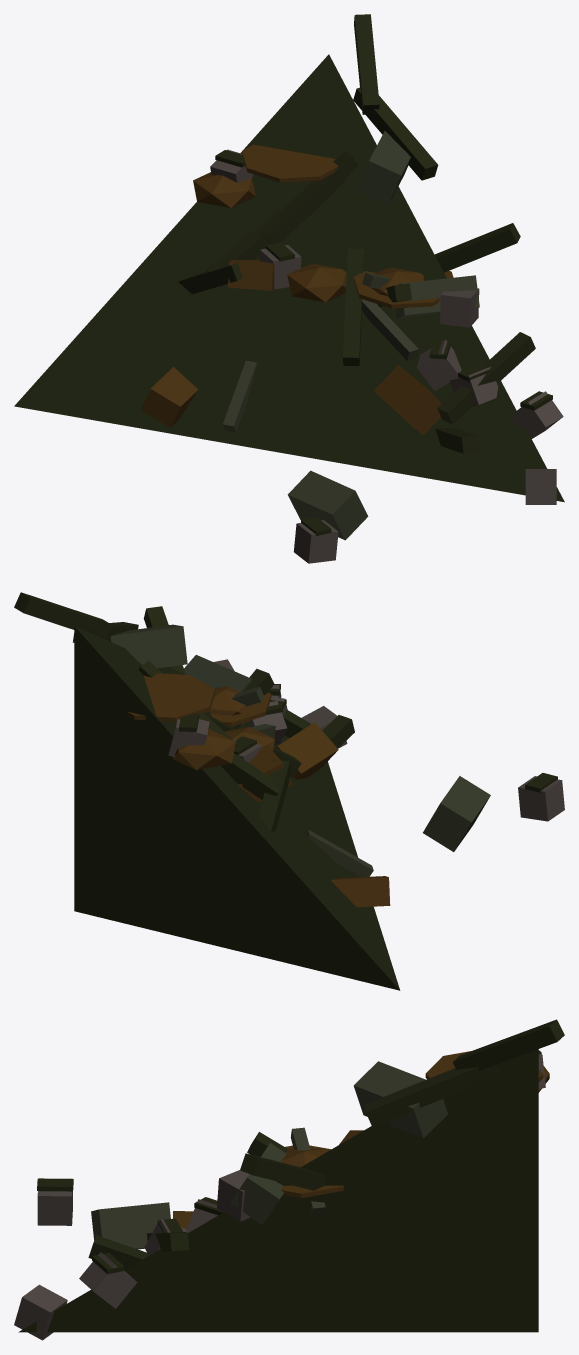
File: SM_PilaZombi_RemateIzq_Altura4_s2_LOD0.fbx
3 renders of one model, top to bottom at view 1: azimuth 30°, elevation 25°; view 2: azimuth 150°, elevation 25°; view 3: azimuth 270°, elevation 25°, orthographic. The views are drawn at different scales.
Visible parts, largest first — view 1: SM_pila_zombis_v13_LOD0; view 2: SM_pila_zombis_v13_LOD0; view 3: SM_pila_zombis_v13_LOD0.
Boxes of the visible parts, x1=… form: SM_pila_zombis_v13_LOD0: x1=14, y1=14, x2=564, y2=563; SM_pila_zombis_v13_LOD0: x1=14, y1=592, x2=564, y2=990; SM_pila_zombis_v13_LOD0: x1=14, y1=1019, x2=564, y2=1340.
Size of the model in its own units: 2.94 by 2.37 by 3.37.
